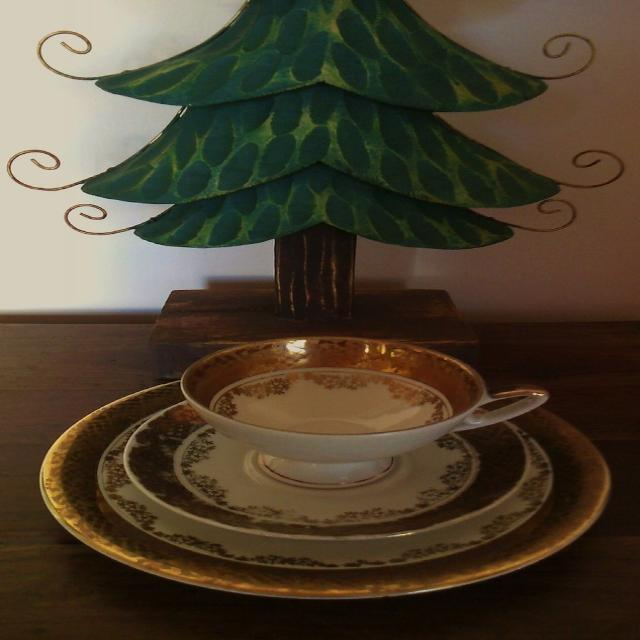non-organic waste: (28, 380, 621, 616)
